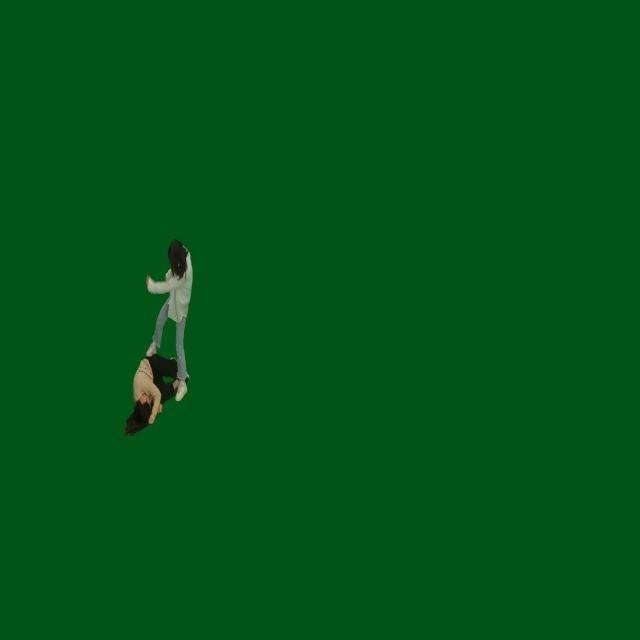fight: (120, 236, 193, 437)
